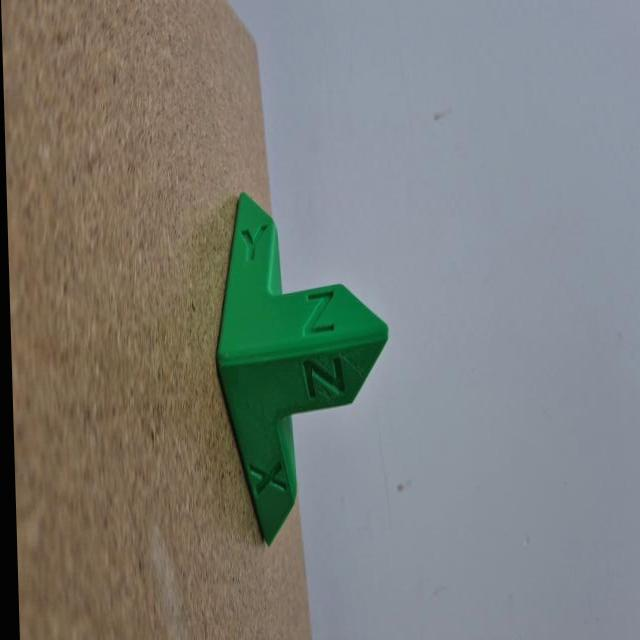eje: (205, 187, 399, 556)
